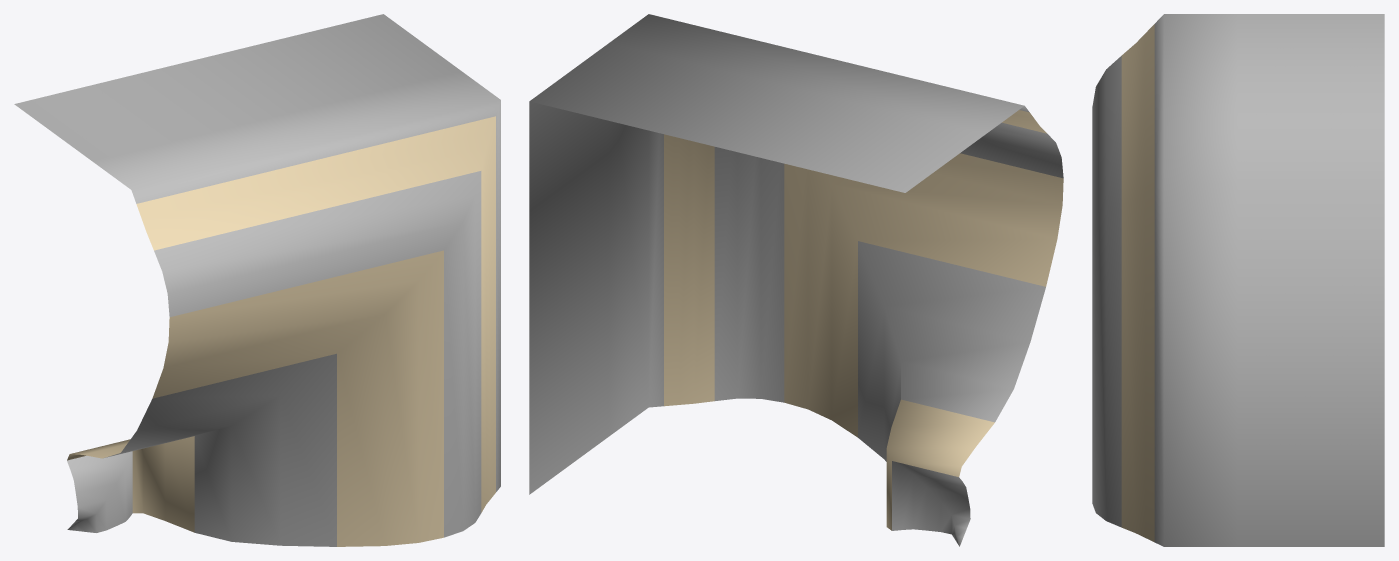
File: pf_corner_b.glb
The picture shows the model from 3 angles, left to right: view 1: azimuth 30°, elevation 25°; view 2: azimuth 150°, elevation 25°; view 3: azimuth 270°, elevation 25°; orthographic projection. The views are drawn at different scales.
Visible parts, largest first — view 1: pf_corner_b; view 2: pf_corner_b; view 3: pf_corner_b.
Part boxes in pixels (x1,y1,x2,y2): pf_corner_b: (14, 14, 500, 546); pf_corner_b: (529, 14, 1063, 546); pf_corner_b: (1092, 14, 1384, 546).
Bounding box in the file's own units: 1 × 1 × 0.7289.
